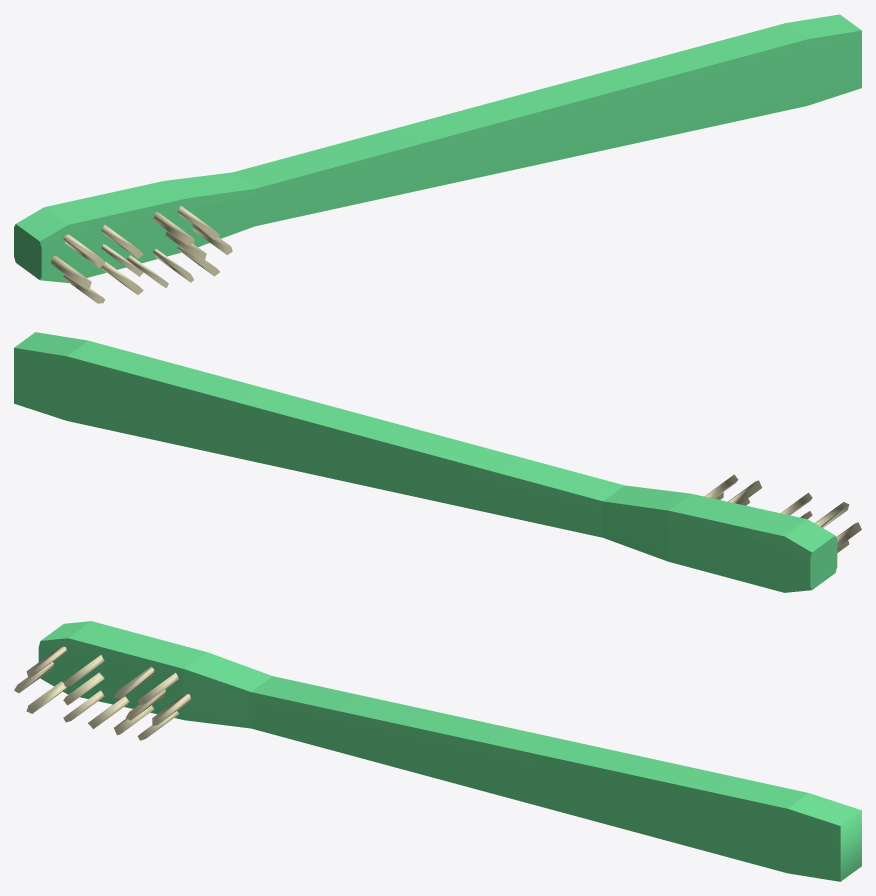
Rendered from Brush.fbx.
3 views of the same model, one above another, from view 1: azimuth 30°, elevation 25°; view 2: azimuth 150°, elevation 25°; view 3: azimuth 330°, elevation 25° (orthographic). The views are drawn at different scales.
Parts seen in each view (by area): view 1: Brush; view 2: Brush; view 3: Brush.
Part boxes in pixels (x1,y1,x2,y2): Brush: (14,14,861,303); Brush: (14,332,861,592); Brush: (14,621,861,881).
Bounding box in the file's own units: 134 × 10.38 × 17.49.
